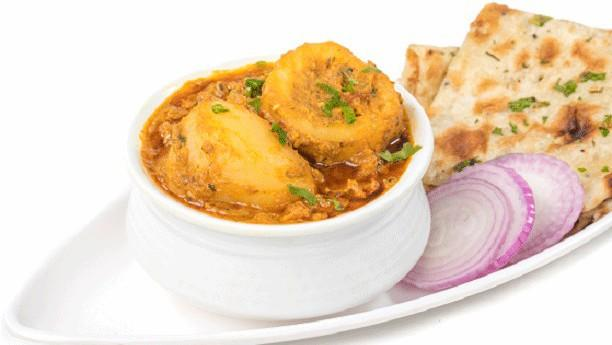DumAloo: (137, 39, 414, 225)
